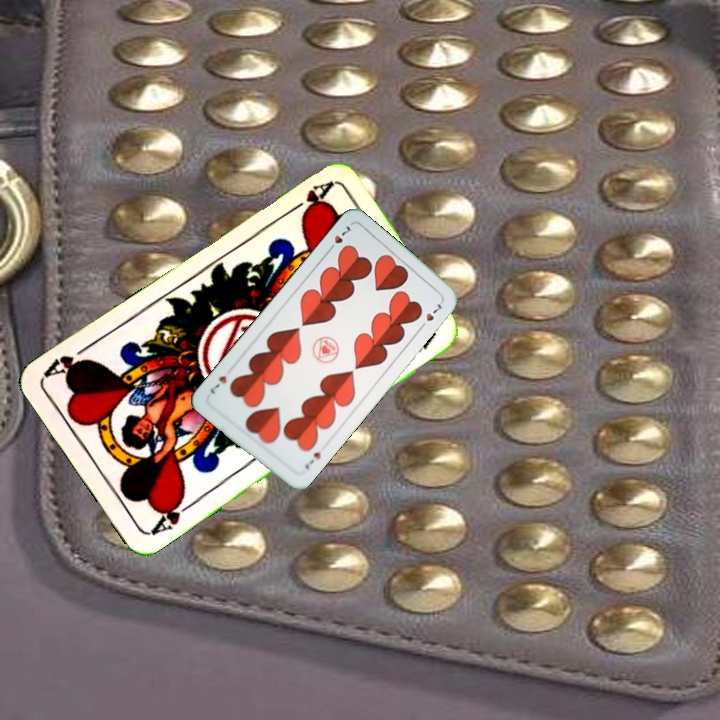H7: (324, 221, 354, 255), (301, 448, 324, 472)
HA: (146, 491, 199, 538), (282, 177, 335, 221)
